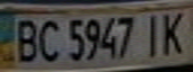4: (100, 14, 121, 61)
5: (63, 15, 84, 62)
7: (115, 12, 139, 61)
9: (81, 15, 103, 61)
B: (6, 16, 42, 65)
C: (33, 16, 63, 64)
I: (139, 11, 166, 58)
K: (157, 8, 193, 55)
